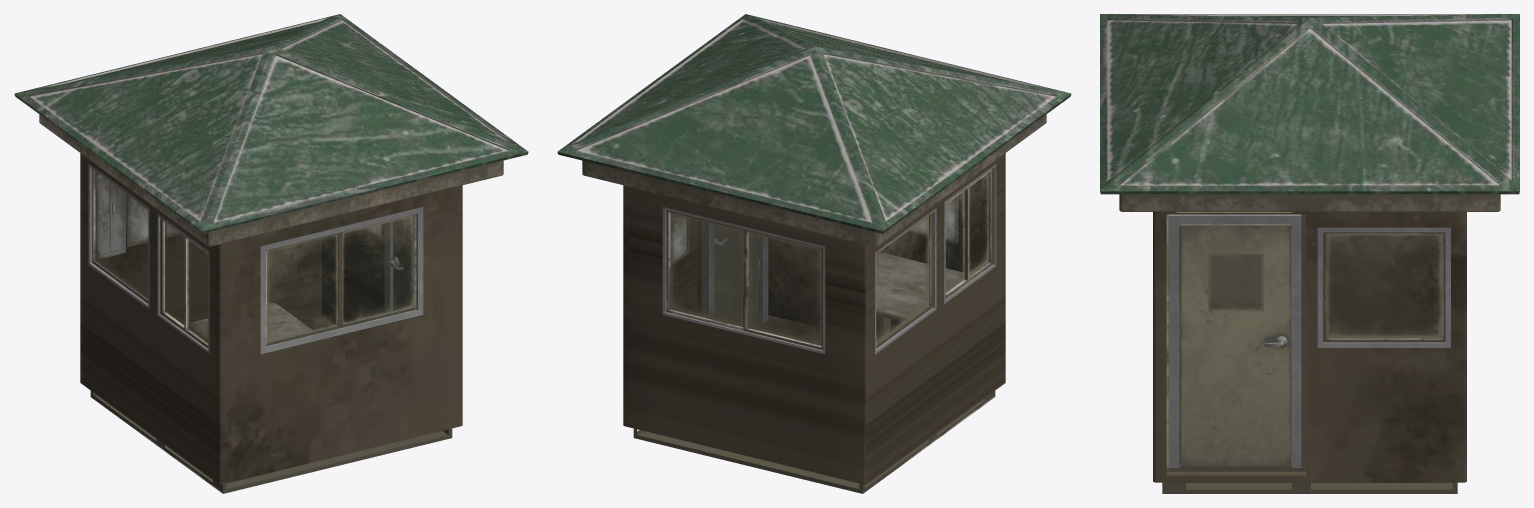
Rendered from guard_booth.glb.
3 views of the same model, side by side, from view 1: azimuth 30°, elevation 25°; view 2: azimuth 150°, elevation 25°; view 3: azimuth 270°, elevation 25° (orthographic). The views are drawn at different scales.
Parts seen in each view (by area): view 1: guard_booth; view 2: guard_booth; view 3: guard_booth.
Boxes of the visible parts, left/top/right/bottom form: guard_booth: left=14, top=14, right=528, bottom=493; guard_booth: left=557, top=14, right=1071, bottom=493; guard_booth: left=1100, top=14, right=1519, bottom=493.
Bounding box in the file's own units: 3.03 × 3.3 × 3.03.
Materials: 10 (10 with a texture image).
